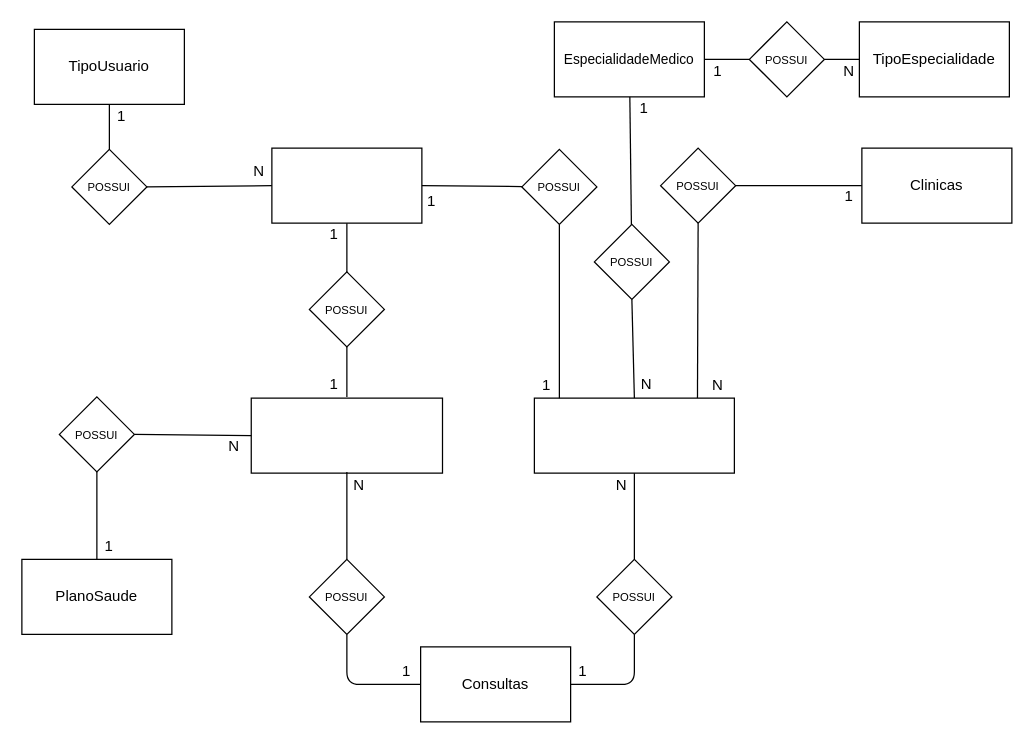
This 1034x744 diagram has some shape labels left out. Here are the shapes that lost their labels. From the top down, the centre of each, then its label:
At point (346, 185): "Usuarios".
At point (346, 435): "Paciente".
At point (633, 435): "Medicos".
